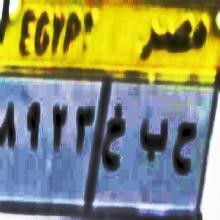2: (48, 102, 69, 153)
3: (74, 101, 96, 162)
7aa: (172, 122, 196, 181)
8: (0, 97, 21, 150)
9: (27, 95, 45, 158)
baa: (140, 118, 168, 164)
khaa: (102, 102, 126, 174)
